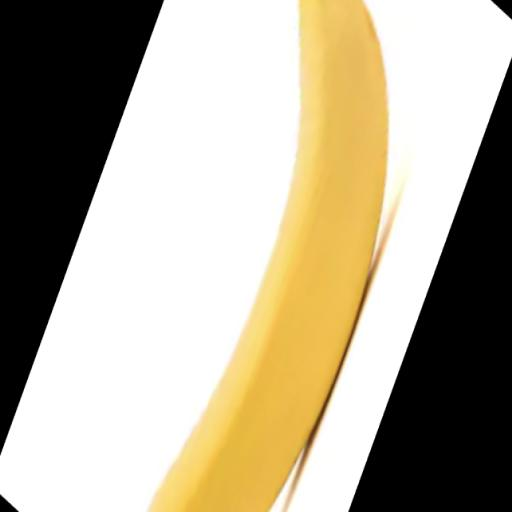banana-ripe: (90, 0, 401, 512)
